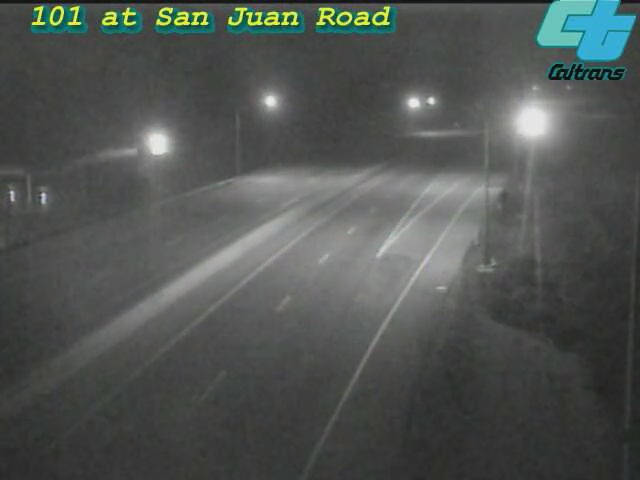vehicle: (508, 97, 558, 147)
